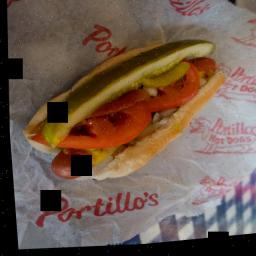hotdog: (41, 149, 92, 182), (189, 58, 216, 80)
